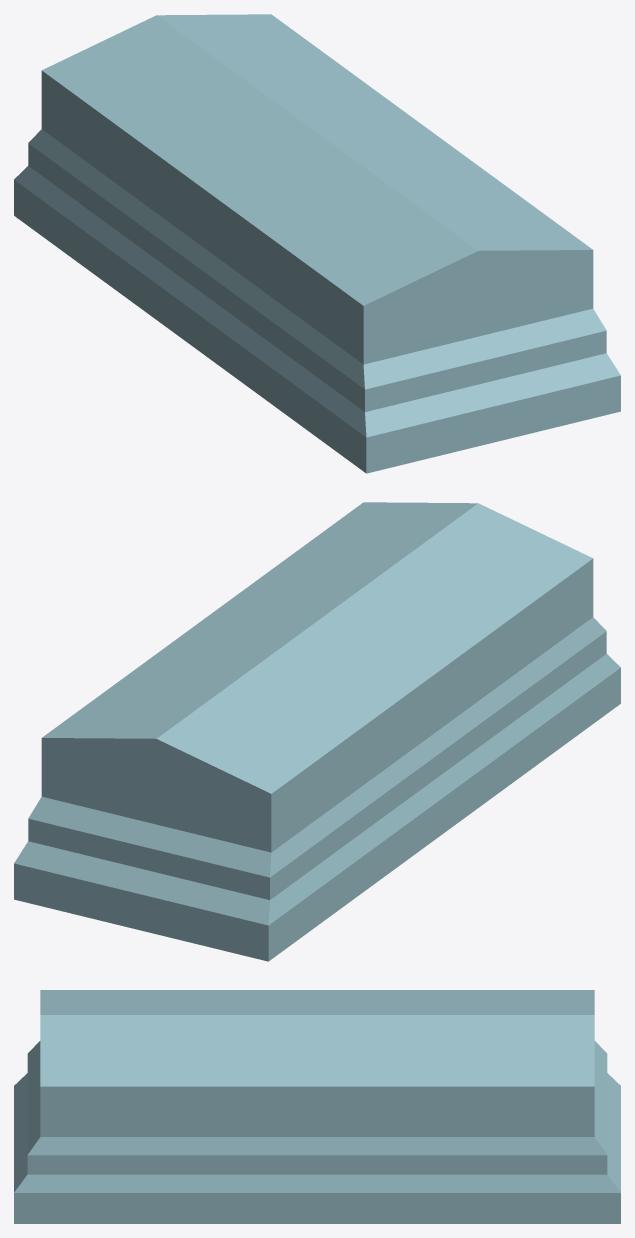
File: gravestoneFlat.fbx
3 renders of one model, top to bottom at view 1: azimuth 30°, elevation 25°; view 2: azimuth 150°, elevation 25°; view 3: azimuth 270°, elevation 25°, orthographic. The views are drawn at different scales.
Visible parts, largest first — view 1: gravestoneFlat; view 2: gravestoneFlat; view 3: gravestoneFlat.
Boxes of the visible parts, x1,y1,x2,y2 form: gravestoneFlat: (14,14,620,473); gravestoneFlat: (14,502,620,961); gravestoneFlat: (14,990,620,1223).
Bounding box in the file's own units: 4.72 × 3.2 × 11.32.
